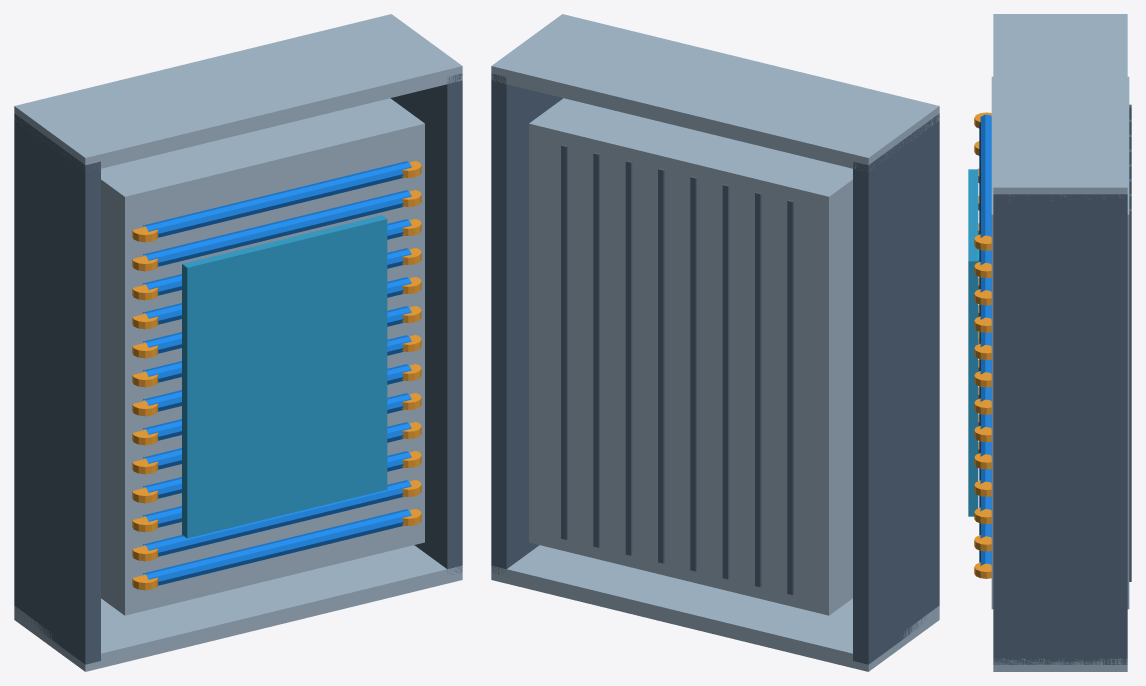
The model's file is 45_L88_CoolingCoilSerpentineAssembly.fbx.
3 views of the same model, side by side, from view 1: azimuth 30°, elevation 25°; view 2: azimuth 150°, elevation 25°; view 3: azimuth 270°, elevation 25° (orthographic). The views are drawn at different scales.
Parts seen in each view (by area): view 1: L87_CoolingCoilSerpentineAssembly_Part_0001, L87_CoolingCoilSerpentineAssembly_Part_0000, L87_CoolingCoilSerpentineAssembly_Part_0005, L87_CoolingCoilSerpentineAssembly_Part_0002, L87_CoolingCoilSerpentineAssembly_Part_0003, L87_CoolingCoilSerpentineAssembly_Part_0004; view 2: L87_CoolingCoilSerpentineAssembly_Part_0001, L87_CoolingCoilSerpentineAssembly_Part_0000; view 3: L87_CoolingCoilSerpentineAssembly_Part_0000, L87_CoolingCoilSerpentineAssembly_Part_0001, L87_CoolingCoilSerpentineAssembly_Part_0002, L87_CoolingCoilSerpentineAssembly_Part_0005, L87_CoolingCoilSerpentineAssembly_Part_0003, L87_CoolingCoilSerpentineAssembly_Part_0004.
Boxes of the visible parts, x1=… form: L87_CoolingCoilSerpentineAssembly_Part_0001: x1=14, y1=14, x2=462, y2=671; L87_CoolingCoilSerpentineAssembly_Part_0000: x1=14, y1=73, x2=462, y2=664; L87_CoolingCoilSerpentineAssembly_Part_0005: x1=182, y1=215, x2=387, y2=538; L87_CoolingCoilSerpentineAssembly_Part_0002: x1=143, y1=161, x2=411, y2=585; L87_CoolingCoilSerpentineAssembly_Part_0003: x1=132, y1=248, x2=421, y2=590; L87_CoolingCoilSerpentineAssembly_Part_0004: x1=132, y1=161, x2=421, y2=300; L87_CoolingCoilSerpentineAssembly_Part_0001: x1=491, y1=14, x2=939, y2=671; L87_CoolingCoilSerpentineAssembly_Part_0000: x1=491, y1=73, x2=939, y2=664; L87_CoolingCoilSerpentineAssembly_Part_0000: x1=993, y1=104, x2=1131, y2=664; L87_CoolingCoilSerpentineAssembly_Part_0001: x1=991, y1=14, x2=1129, y2=671; L87_CoolingCoilSerpentineAssembly_Part_0002: x1=979, y1=114, x2=991, y2=565; L87_CoolingCoilSerpentineAssembly_Part_0005: x1=968, y1=169, x2=978, y2=516; L87_CoolingCoilSerpentineAssembly_Part_0003: x1=974, y1=196, x2=991, y2=578; L87_CoolingCoilSerpentineAssembly_Part_0004: x1=974, y1=112, x2=991, y2=305.
Size of the model in its own units: 245 by 319 by 97.5.
